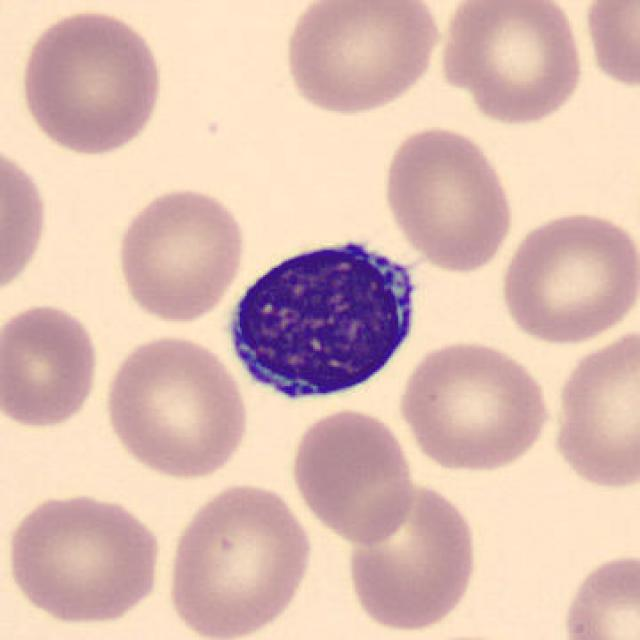Lymphocyte: (215, 222, 429, 413)
RBC: (162, 480, 316, 638), (14, 5, 167, 159), (2, 488, 165, 628), (100, 332, 252, 482), (341, 478, 482, 635), (396, 337, 554, 476), (379, 122, 517, 273), (496, 205, 638, 348), (279, 0, 443, 118), (112, 183, 249, 324), (436, 0, 588, 127), (286, 404, 418, 546), (548, 324, 638, 494), (0, 300, 103, 432), (0, 138, 52, 305), (556, 548, 638, 640), (579, 0, 640, 93)
